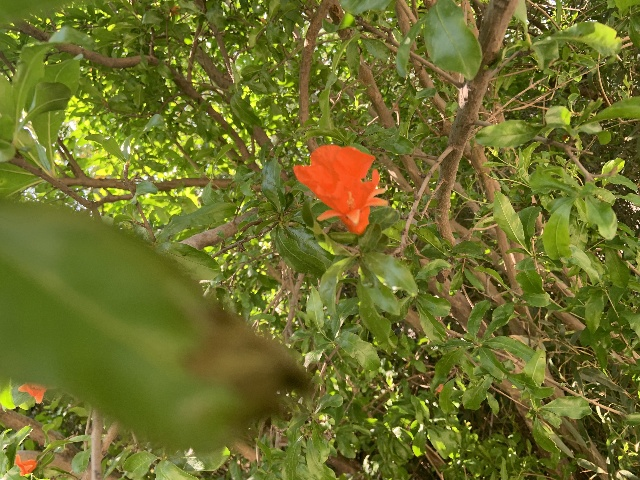flower: (293, 143, 387, 234), (17, 382, 46, 403), (14, 453, 36, 477)
